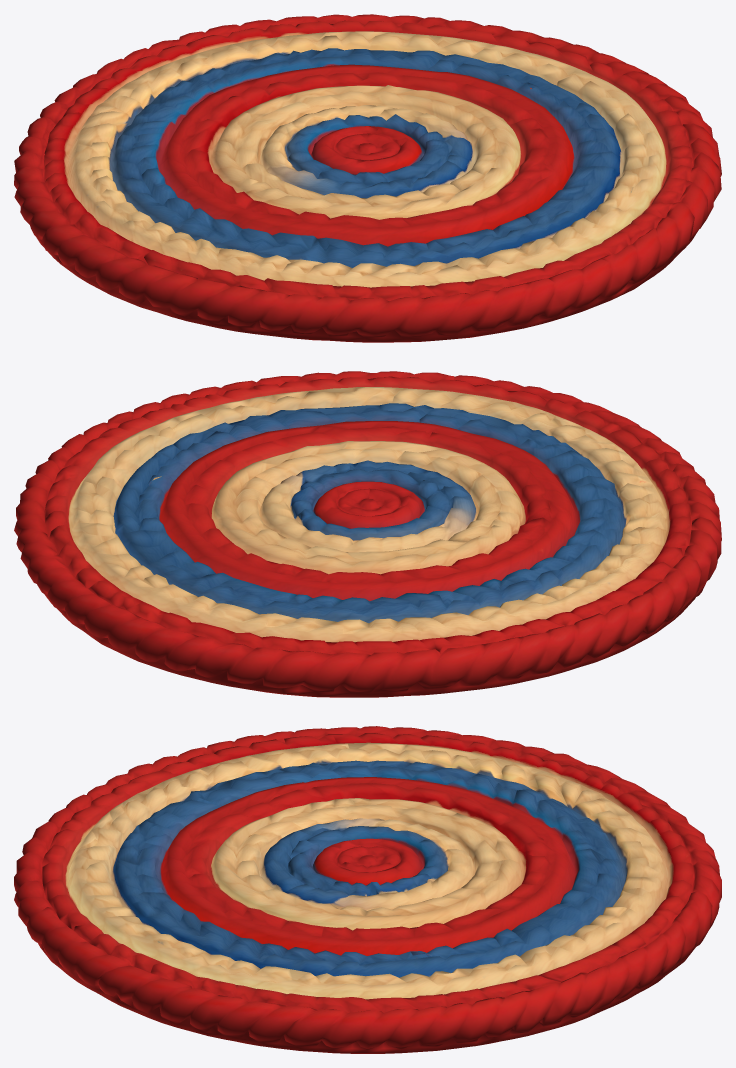
The model's file is braided_rug.glb.
3 renders of one model, top to bottom at view 1: azimuth 30°, elevation 25°; view 2: azimuth 150°, elevation 25°; view 3: azimuth 270°, elevation 25°, orthographic.
Parts seen in each view (by area): view 1: tripo_node_bd98ff5d-612e-4332-af40-9313e9bec1cc; view 2: tripo_node_bd98ff5d-612e-4332-af40-9313e9bec1cc; view 3: tripo_node_bd98ff5d-612e-4332-af40-9313e9bec1cc.
Boxes of the visible parts, x1=… form: tripo_node_bd98ff5d-612e-4332-af40-9313e9bec1cc: x1=14, y1=14, x2=721, y2=342; tripo_node_bd98ff5d-612e-4332-af40-9313e9bec1cc: x1=14, y1=371, x2=721, y2=697; tripo_node_bd98ff5d-612e-4332-af40-9313e9bec1cc: x1=14, y1=726, x2=721, y2=1053.
Size of the model in its own units: 0.9782 by 0.0919 by 0.9782.
1 material, 1 textured.
